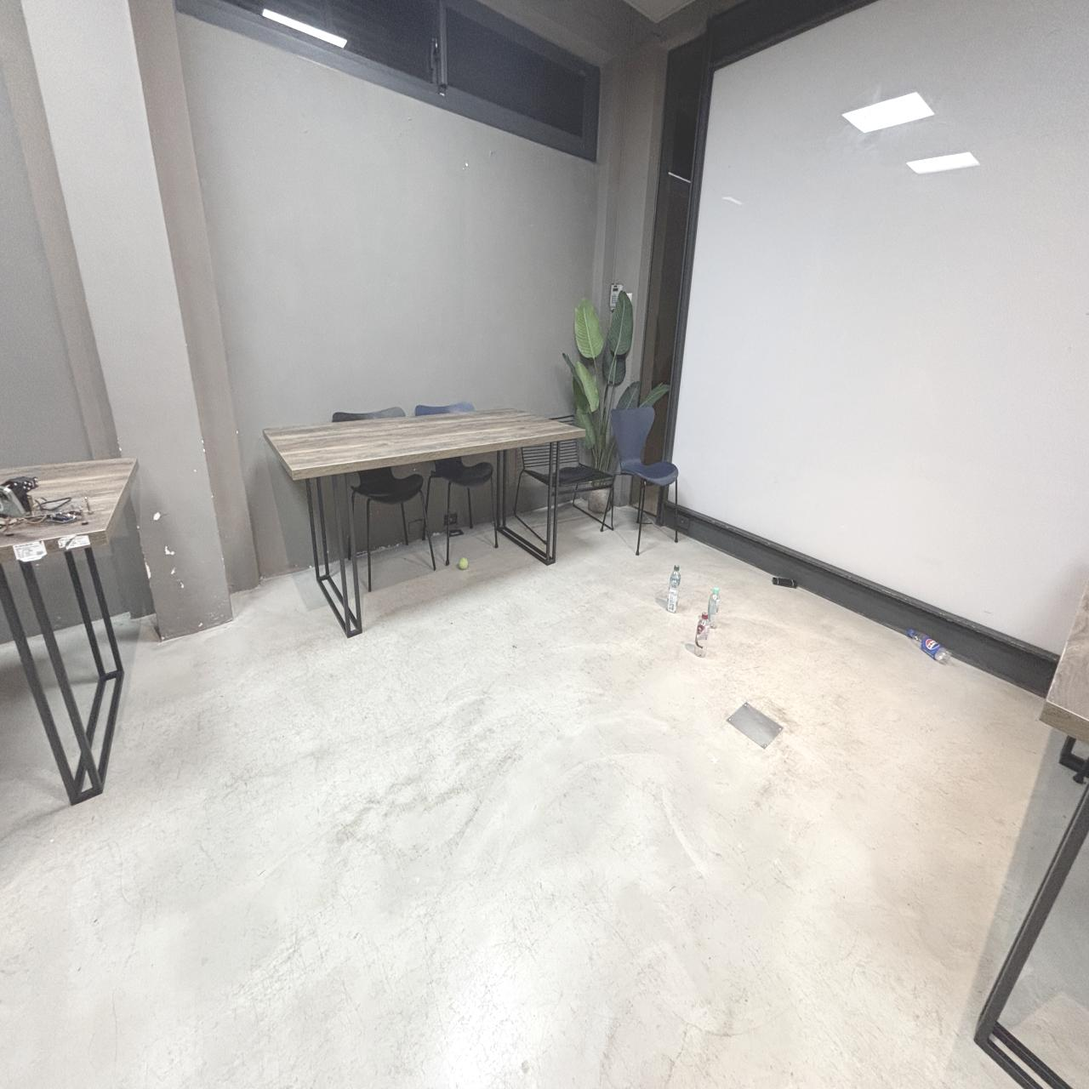plastic-bottle: (695, 613, 710, 657), (667, 565, 680, 613), (707, 587, 720, 629)
tennisball: (458, 557, 469, 570)
